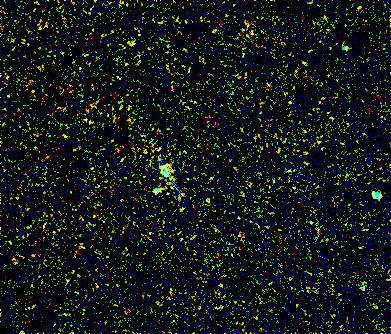star: (120, 29, 150, 59)
